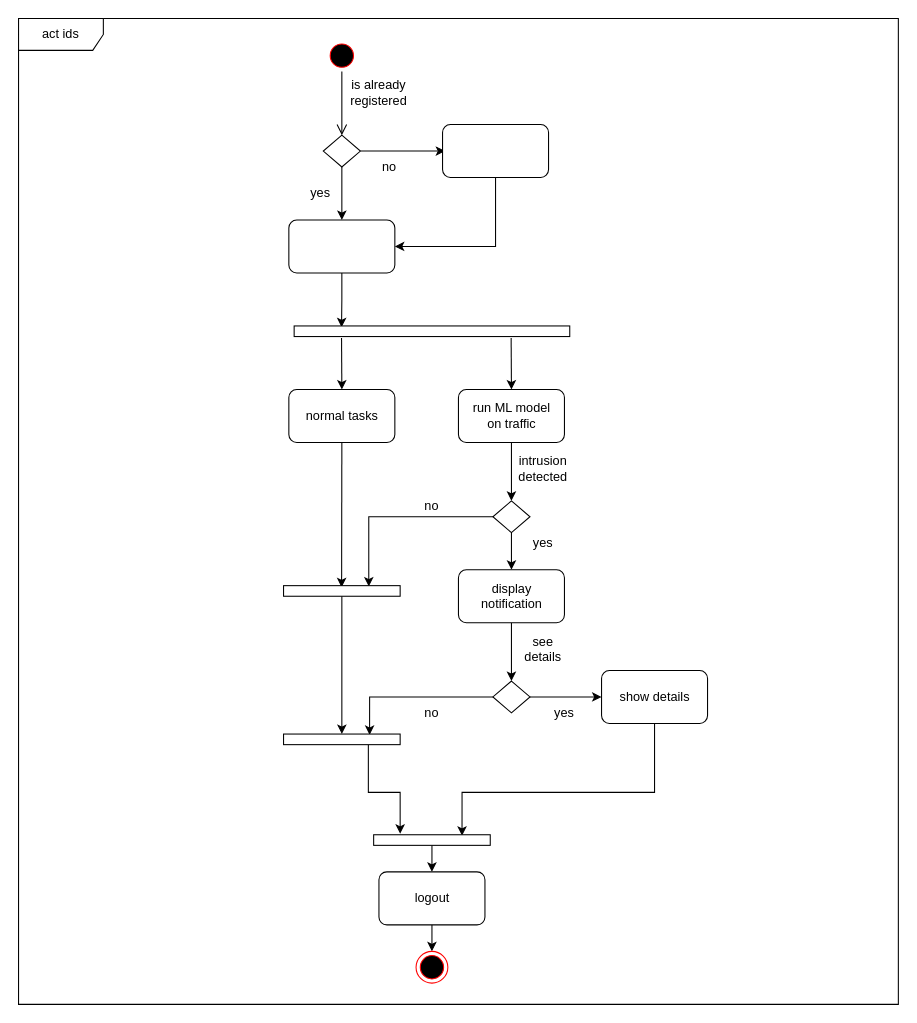
The diagram is 917 pixels wide and 1023 high, and some of its shapes have lost their labels. The shapes that lost their labels are listed below. From the top down, each one's centre as x and y in pixels, then its label:
At [495,150]: "register".
At [341,246]: "login".
